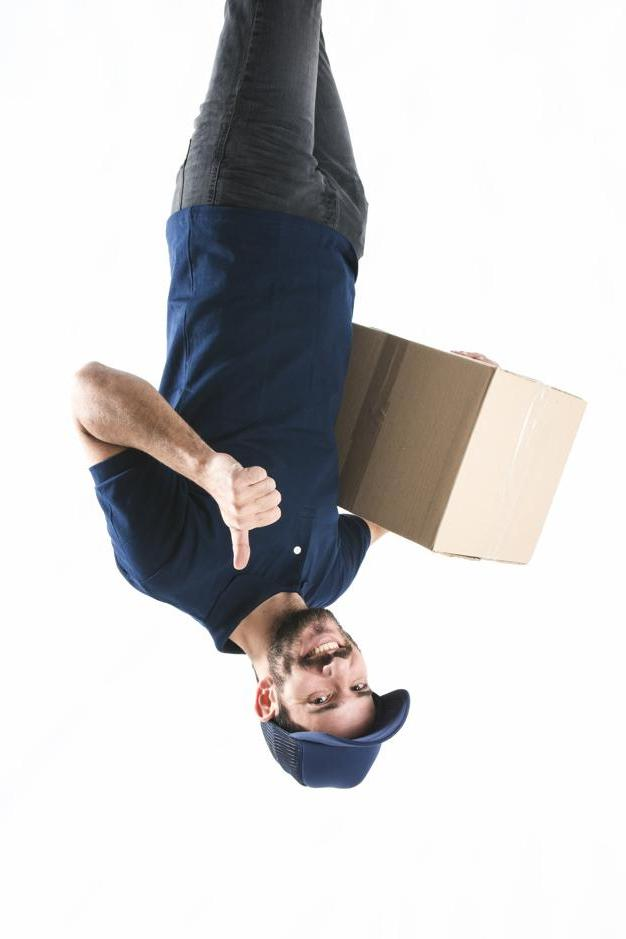thumbsdown: (227, 466, 282, 571)
